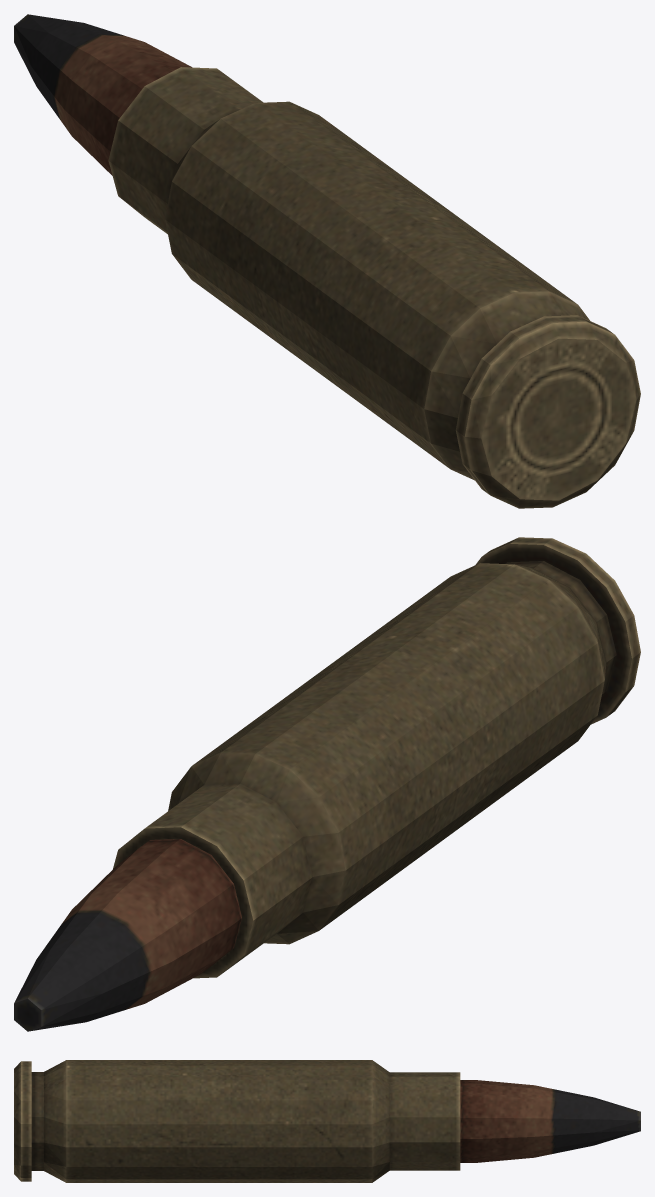
3 views of the same model, one above another, from view 1: azimuth 30°, elevation 25°; view 2: azimuth 150°, elevation 25°; view 3: azimuth 270°, elevation 25° (orthographic). The views are drawn at different scales.
Visible parts, largest first — view 1: TW_5cc80f38e4a949001152b560_PZ_Import; view 2: TW_5cc80f38e4a949001152b560_PZ_Import; view 3: TW_5cc80f38e4a949001152b560_PZ_Import.
Boxes of the visible parts, x1,y1,x2,y2 form: TW_5cc80f38e4a949001152b560_PZ_Import: (14,14,640,508); TW_5cc80f38e4a949001152b560_PZ_Import: (14,537,640,1031); TW_5cc80f38e4a949001152b560_PZ_Import: (14,1060,640,1182).
Size of the model in its own units: 0.00459 by 0.0234 by 0.00459.
Materials: 1 (1 with a texture image).
